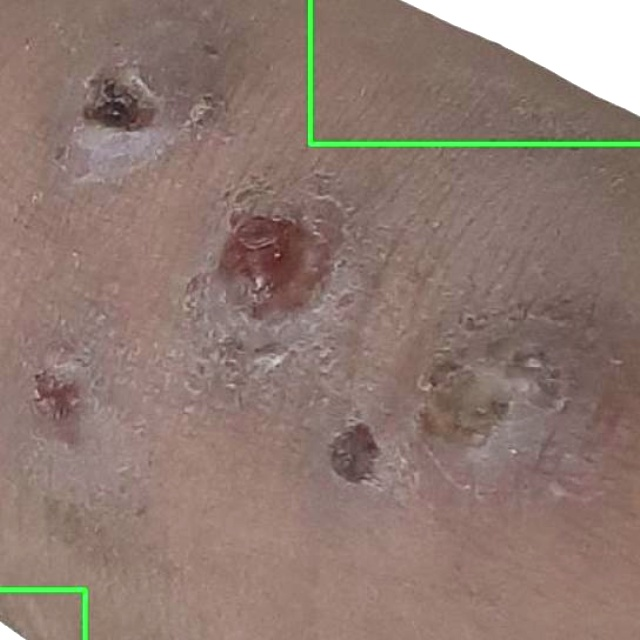Scabies: (310, 0, 639, 143)
